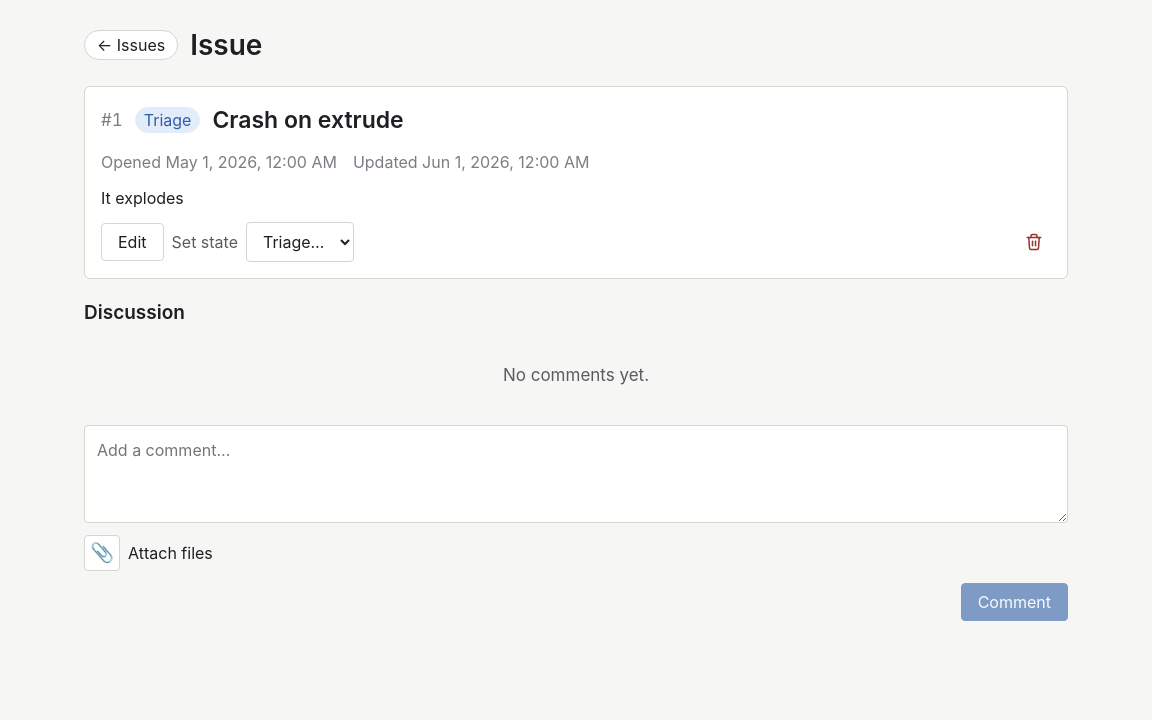
TicketsView — set state / delete › surfaces a failed state change and keeps the old state
Select "Closed" in the dropdown labelled "Set state" at x=300, y=242, box [246,222,354,262]
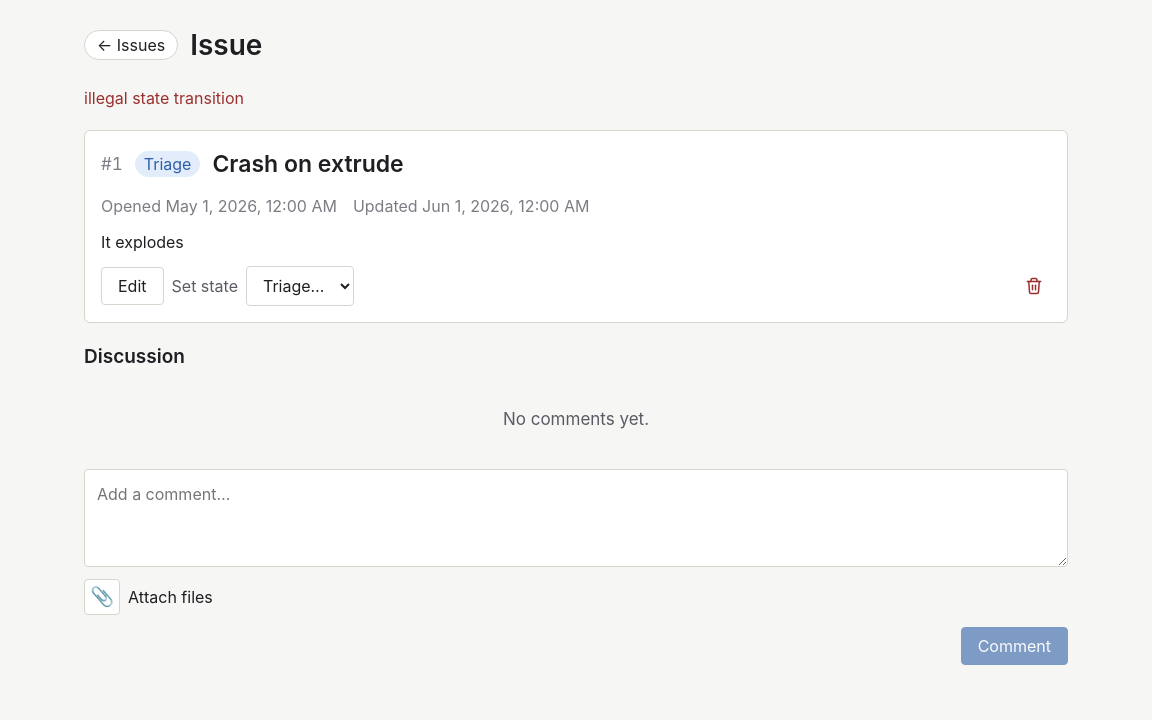
Expected: the text "Triage" is shown, [135,151,200,177]
Now the message "illegal state transition" is shown, box [84,88,244,108]
